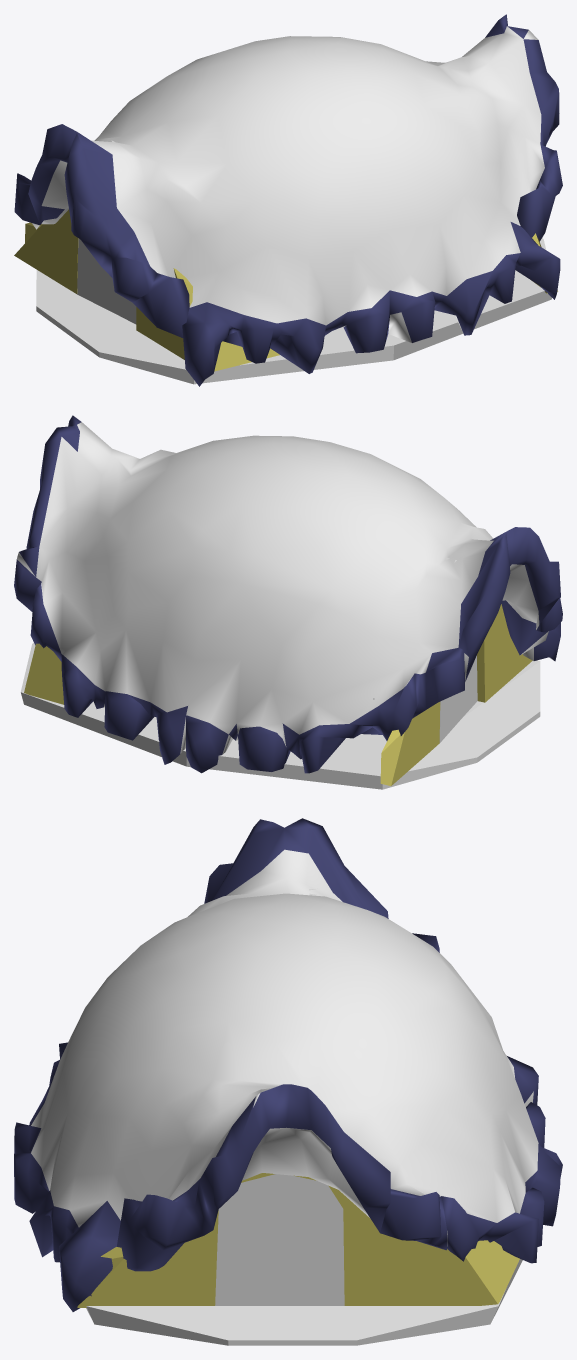
File: 5iCasaTortuga.fbx
3 views of the same model, one above another, from view 1: azimuth 30°, elevation 25°; view 2: azimuth 150°, elevation 25°; view 3: azimuth 270°, elevation 25° (orthographic). The views are drawn at different scales.
Visible parts, largest first — view 1: Caparazon_TortugaORG, PISOORG, Entrada.003, PuertaORG2; view 2: Caparazon_TortugaORG, PISOORG, Entrada.003, Entrada.001, PuertaORG2; view 3: Caparazon_TortugaORG, Entrada.001, PuertaORG, PISOORG.
Part boxes in pixels (x1,y1,x2,y2): Caparazon_TortugaORG: [14, 14, 562, 386]; PISOORG: [36, 238, 551, 384]; Entrada.003: [14, 209, 279, 371]; PuertaORG2: [77, 140, 136, 324]; Caparazon_TortugaORG: [14, 415, 562, 773]; PISOORG: [20, 643, 540, 789]; Entrada.003: [380, 604, 532, 785]; Entrada.001: [24, 643, 63, 704]; PuertaORG2: [439, 557, 477, 742]; Caparazon_TortugaORG: [14, 818, 562, 1311]; Entrada.001: [77, 1173, 519, 1307]; PuertaORG: [215, 1174, 344, 1305]; PISOORG: [86, 1259, 522, 1345].
Bounding box in the file's own units: 4942 × 2268 × 3913.
